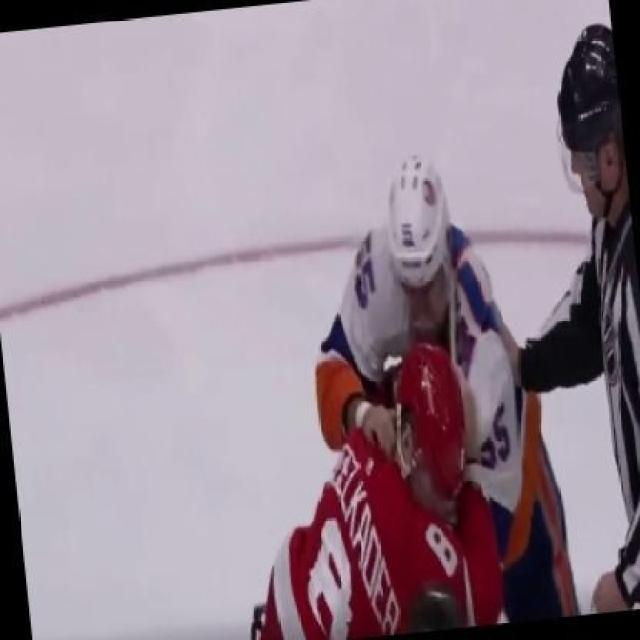fight: (241, 165, 584, 638)
non-fight: (495, 2, 640, 636)
